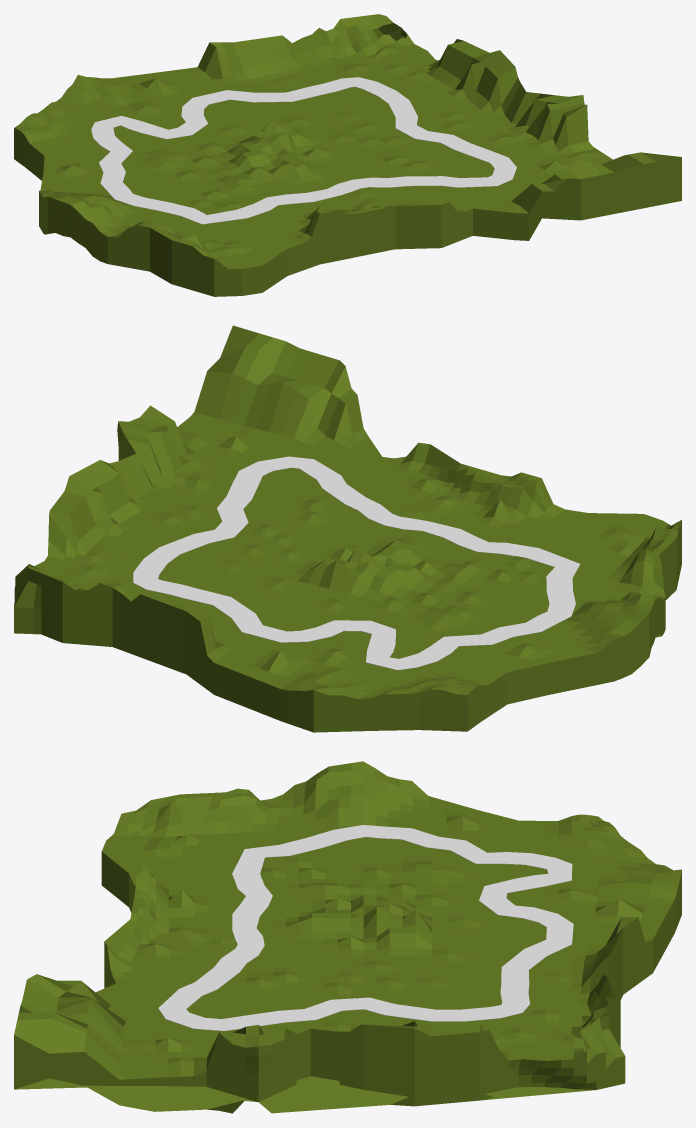
The model's file is PLANO2.fbx.
3 renders of one model, top to bottom at view 1: azimuth 30°, elevation 25°; view 2: azimuth 150°, elevation 25°; view 3: azimuth 270°, elevation 25°, orthographic. The views are drawn at different scales.
Visible parts, largest first — view 1: Cube.092, Cube.069; view 2: Cube.092, Cube.069; view 3: Cube.092, Cube.069.
Boxes of the visible parts, x1,y1,x2,y2 form: Cube.092: (14,14,681,296); Cube.069: (91,77,516,224); Cube.092: (14,325,681,732); Cube.069: (133,456,580,670); Cube.092: (14,761,681,1113); Cube.069: (158,825,573,1031).
Size of the model in its own units: 22210 by 2916 by 20853.
